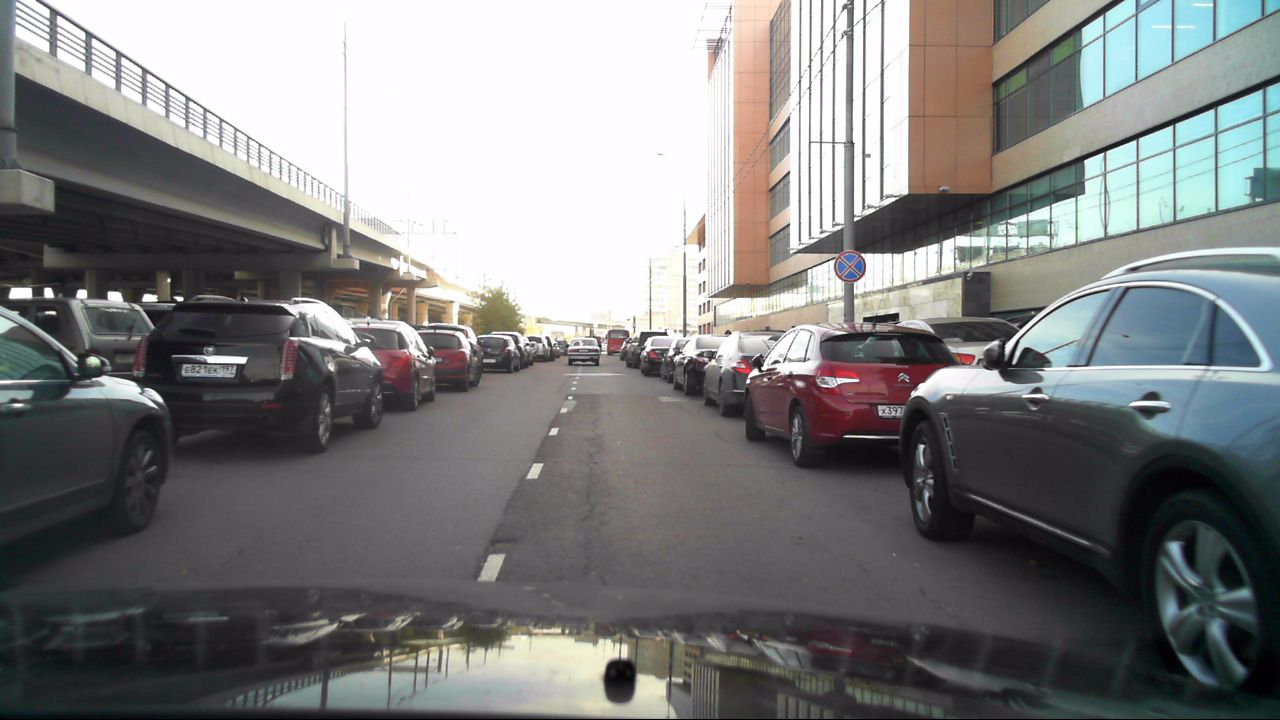No Parking: (832, 250, 868, 282)
